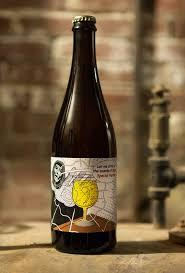Glass bottle: (40, 8, 127, 252)
